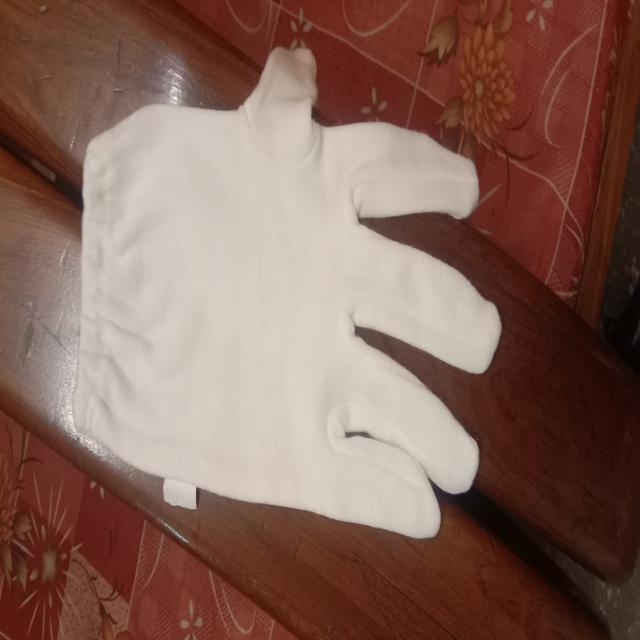gloved_hand: (70, 31, 506, 548)
